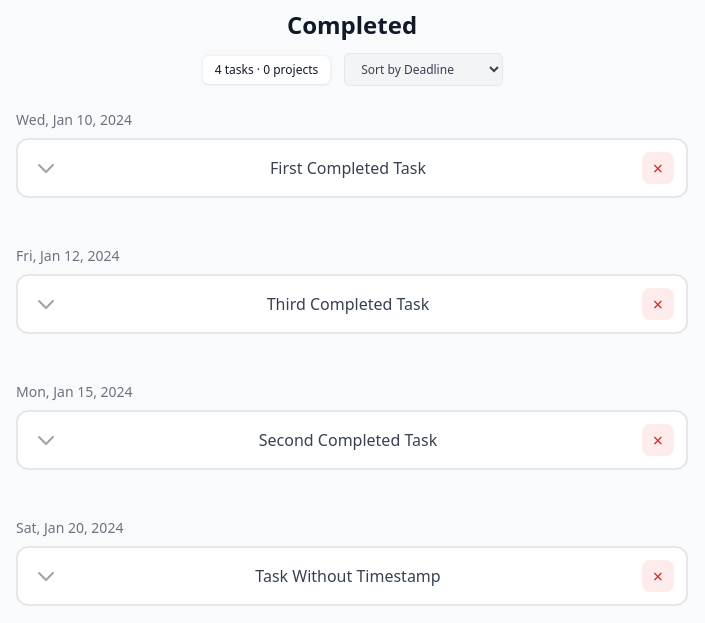
TaskList - Completed Tasks Sorting › handles tasks without completedAt timestamp gracefully
// Change to "Recently Completed"
Select "Recently Completed" in the dropdown at (424, 70), box [344,53,503,86]
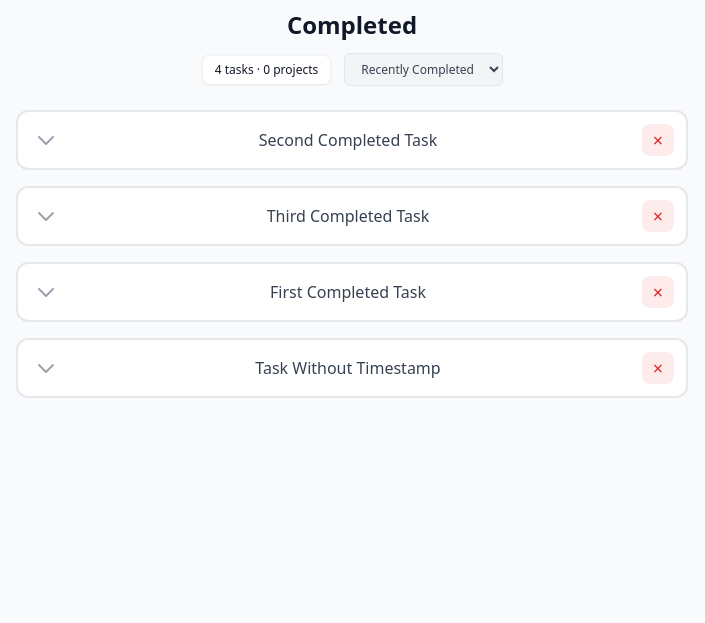
Expected: the text "Third Completed Task" is shown, [267,204,429,228]
Now the text "First Completed Task" is shown, box [270,280,426,304]
Now the text "Second Completed Task" is shown, box [259,128,437,152]
